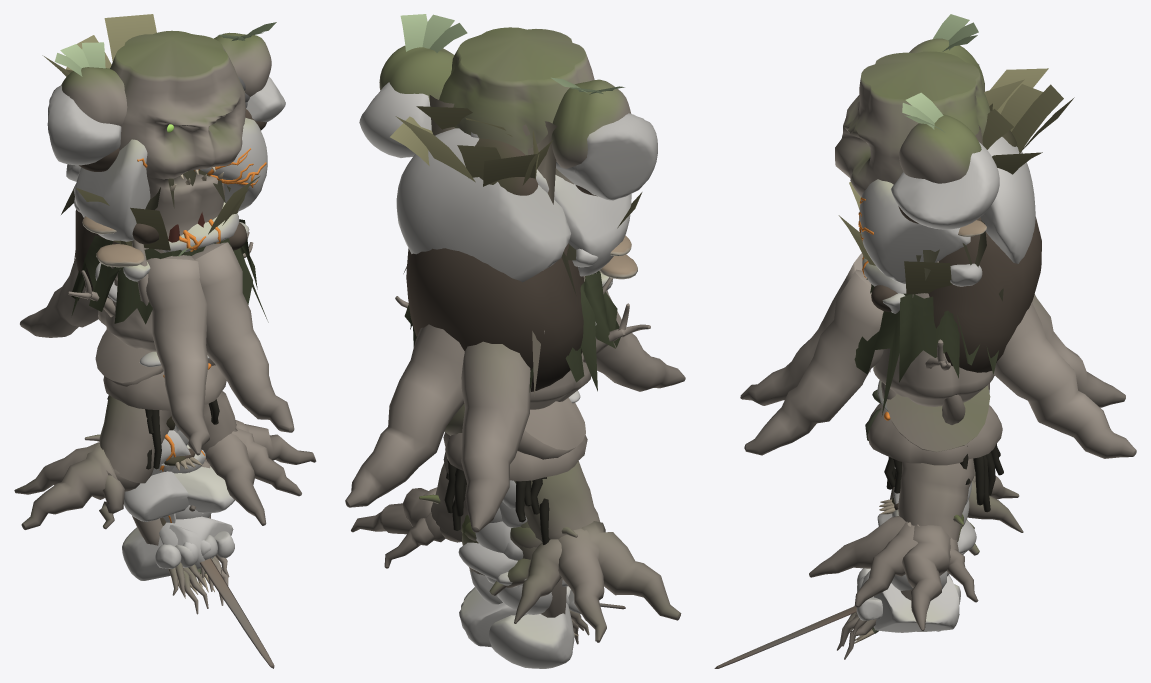
File: wardens.glb
The picture shows the model from 3 angles, left to right: view 1: azimuth 30°, elevation 25°; view 2: azimuth 150°, elevation 25°; view 3: azimuth 270°, elevation 25°; orthographic projection. The views are drawn at different scales.
Parts seen in each view (by area): view 1: warden_treant_torso, warden_golem_torso, warden_hag_torso, warden_treant_leg_r, warden_treant_leg_l, warden_golem_arm_l, warden_golem_leg_r, warden_treant_head, warden_golem_arm_r, warden_golem_leg_l, warden_treant_arm_l, warden_revenant_arm_r (+1 smaller); view 2: warden_treant_torso, warden_golem_torso, warden_hag_torso, warden_treant_leg_r, warden_treant_leg_l, warden_golem_arm_l, warden_treant_head, warden_golem_arm_r, warden_hag_head, warden_golem_leg_r, warden_treant_arm_l, warden_revenant_torso (+1 smaller); view 3: warden_treant_torso, warden_hag_torso, warden_golem_torso, warden_treant_leg_l, warden_treant_leg_r, warden_treant_head, warden_golem_arm_r, warden_hag_head, warden_revenant_arm_r, warden_treant_arm_r, warden_golem_leg_r.
Part boxes in pixels (x1,y1,x2,y2): warden_treant_torso: (20, 22, 294, 455); warden_golem_torso: (47, 77, 285, 308); warden_hag_torso: (42, 14, 268, 324); warden_treant_leg_r: (14, 358, 215, 529); warden_treant_leg_l: (95, 329, 316, 525); warden_golem_arm_l: (122, 463, 213, 580); warden_golem_leg_r: (124, 430, 190, 521); warden_treant_head: (68, 232, 253, 410); warden_golem_arm_r: (159, 429, 234, 564); warden_golem_leg_l: (171, 424, 234, 513); warden_treant_arm_l: (84, 434, 208, 614); warden_revenant_arm_r: (200, 558, 274, 668); warden_treant_torso: (345, 14, 685, 532); warden_golem_torso: (359, 82, 657, 325); warden_hag_torso: (390, 106, 642, 392); warden_treant_leg_r: (444, 404, 681, 642); warden_treant_leg_l: (351, 397, 585, 568); warden_golem_arm_l: (489, 501, 581, 668); warden_treant_head: (395, 277, 650, 481); warden_golem_arm_r: (459, 507, 569, 647); warden_hag_head: (444, 438, 549, 544); warden_golem_leg_r: (458, 480, 567, 587); warden_treant_arm_l: (510, 522, 589, 644); warden_revenant_torso: (429, 95, 557, 396); warden_treant_torso: (740, 14, 1136, 458); warden_hag_torso: (838, 68, 1074, 415); warden_golem_torso: (858, 64, 1035, 313); warden_treant_leg_l: (809, 383, 989, 630); warden_treant_leg_r: (886, 385, 1023, 555); warden_treant_head: (867, 339, 1002, 465); warden_golem_arm_r: (856, 482, 971, 632); warden_hag_head: (865, 389, 1003, 512); warden_revenant_arm_r: (714, 606, 856, 668); warden_treant_arm_r: (837, 514, 964, 659); warden_golem_leg_r: (877, 487, 976, 553).
Bounding box in the file's own units: 1.79 × 3.35 × 2.12.
